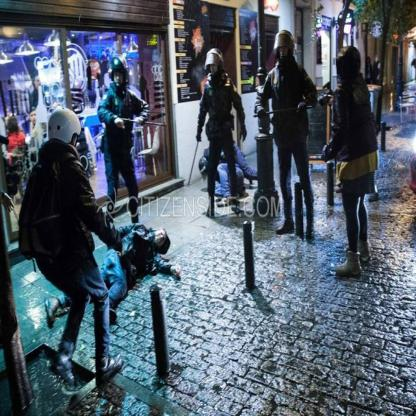face: (156, 232, 167, 246), (115, 69, 123, 88), (280, 44, 288, 60), (211, 61, 218, 75), (30, 112, 38, 124), (35, 77, 43, 87), (7, 110, 10, 115)
